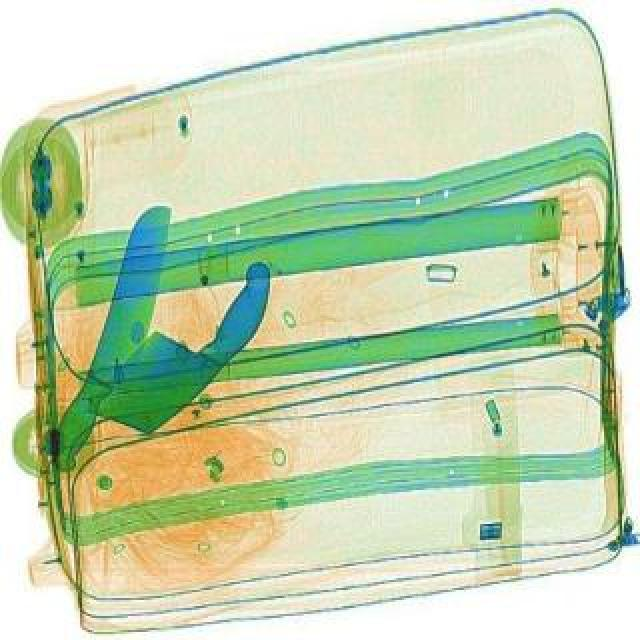knife: (80, 242, 300, 450), (44, 196, 192, 484)
